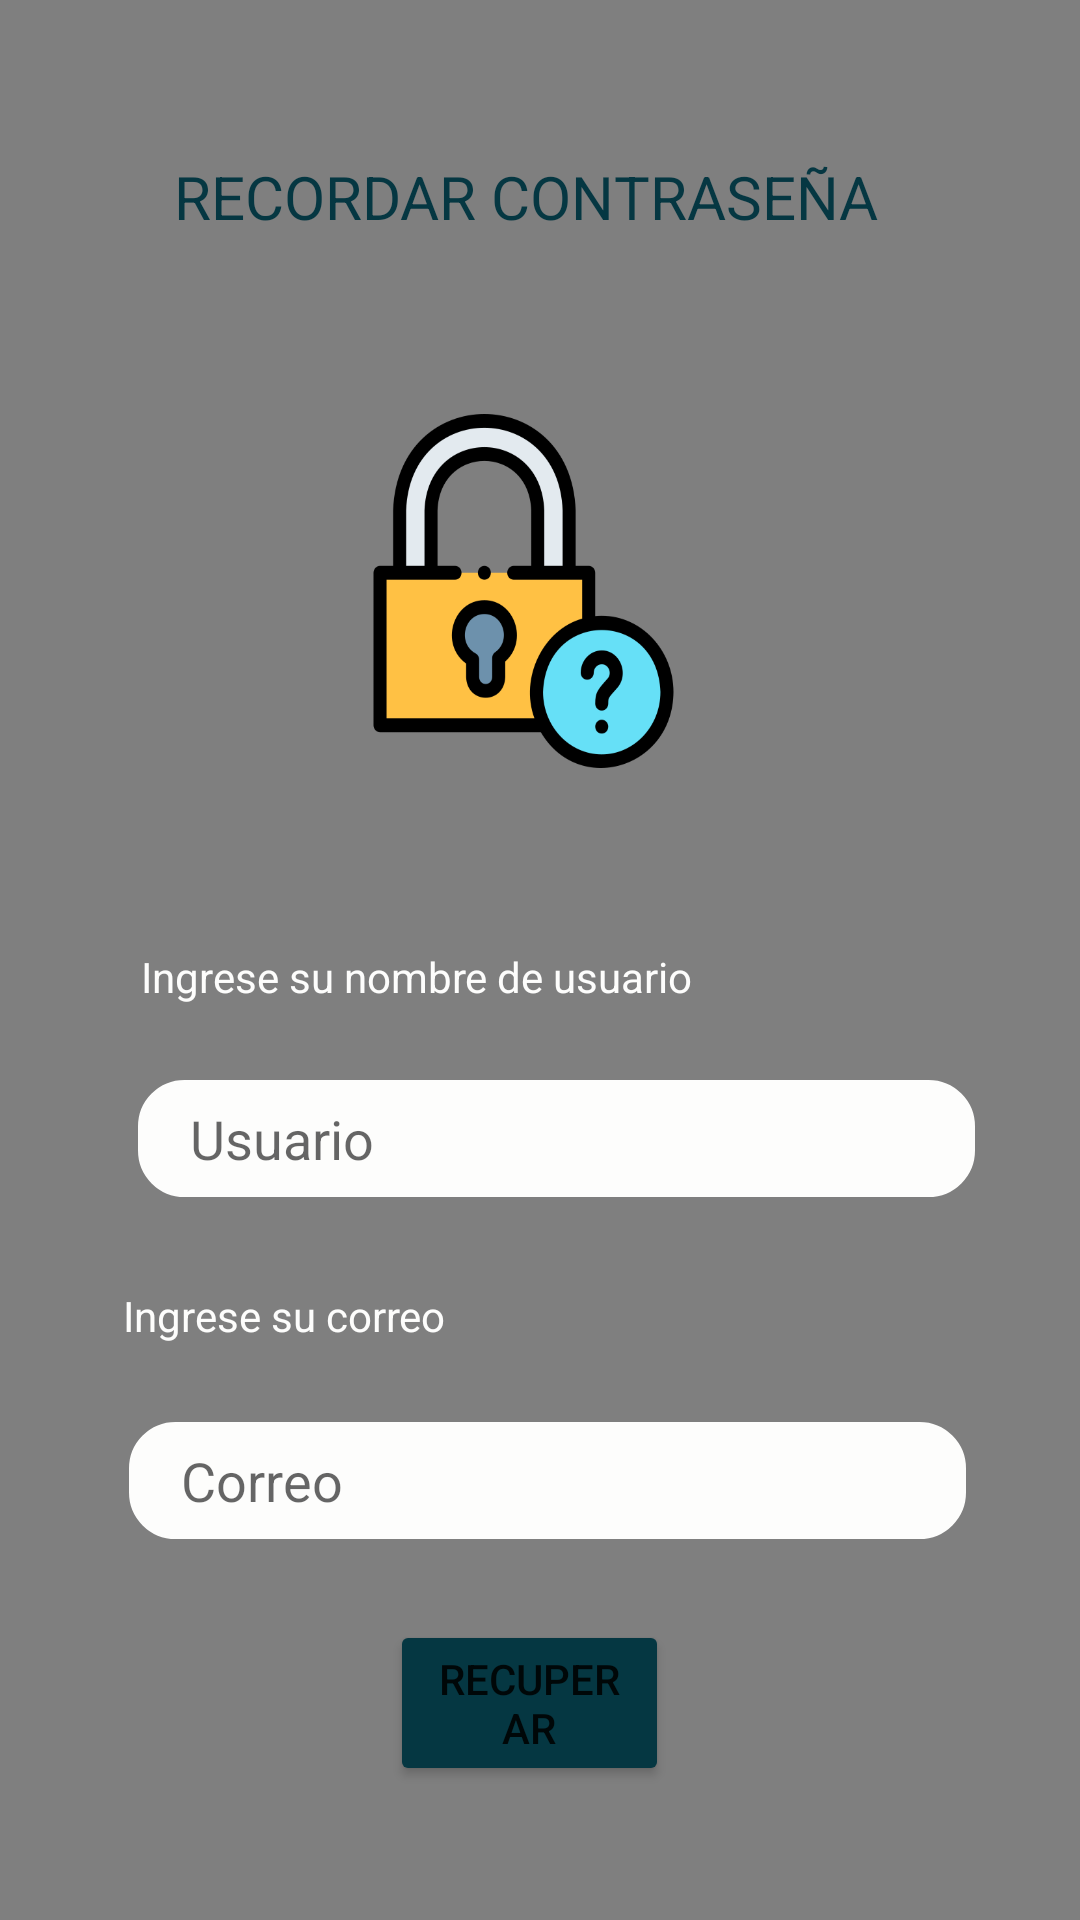

Icons on this 1080x1920 Android screen, each with the point to tap as [x,y]:
forgot password: [523,591]
